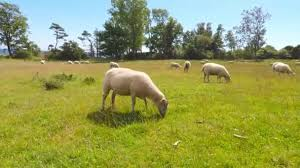sheep: (102, 66, 169, 119), (200, 60, 232, 82), (273, 62, 294, 75), (181, 57, 192, 73), (168, 59, 181, 71), (108, 60, 120, 68), (80, 57, 88, 65), (38, 58, 46, 65), (65, 58, 72, 65), (72, 58, 79, 65)
